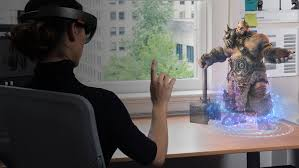hololens: (15, 7, 98, 44)
